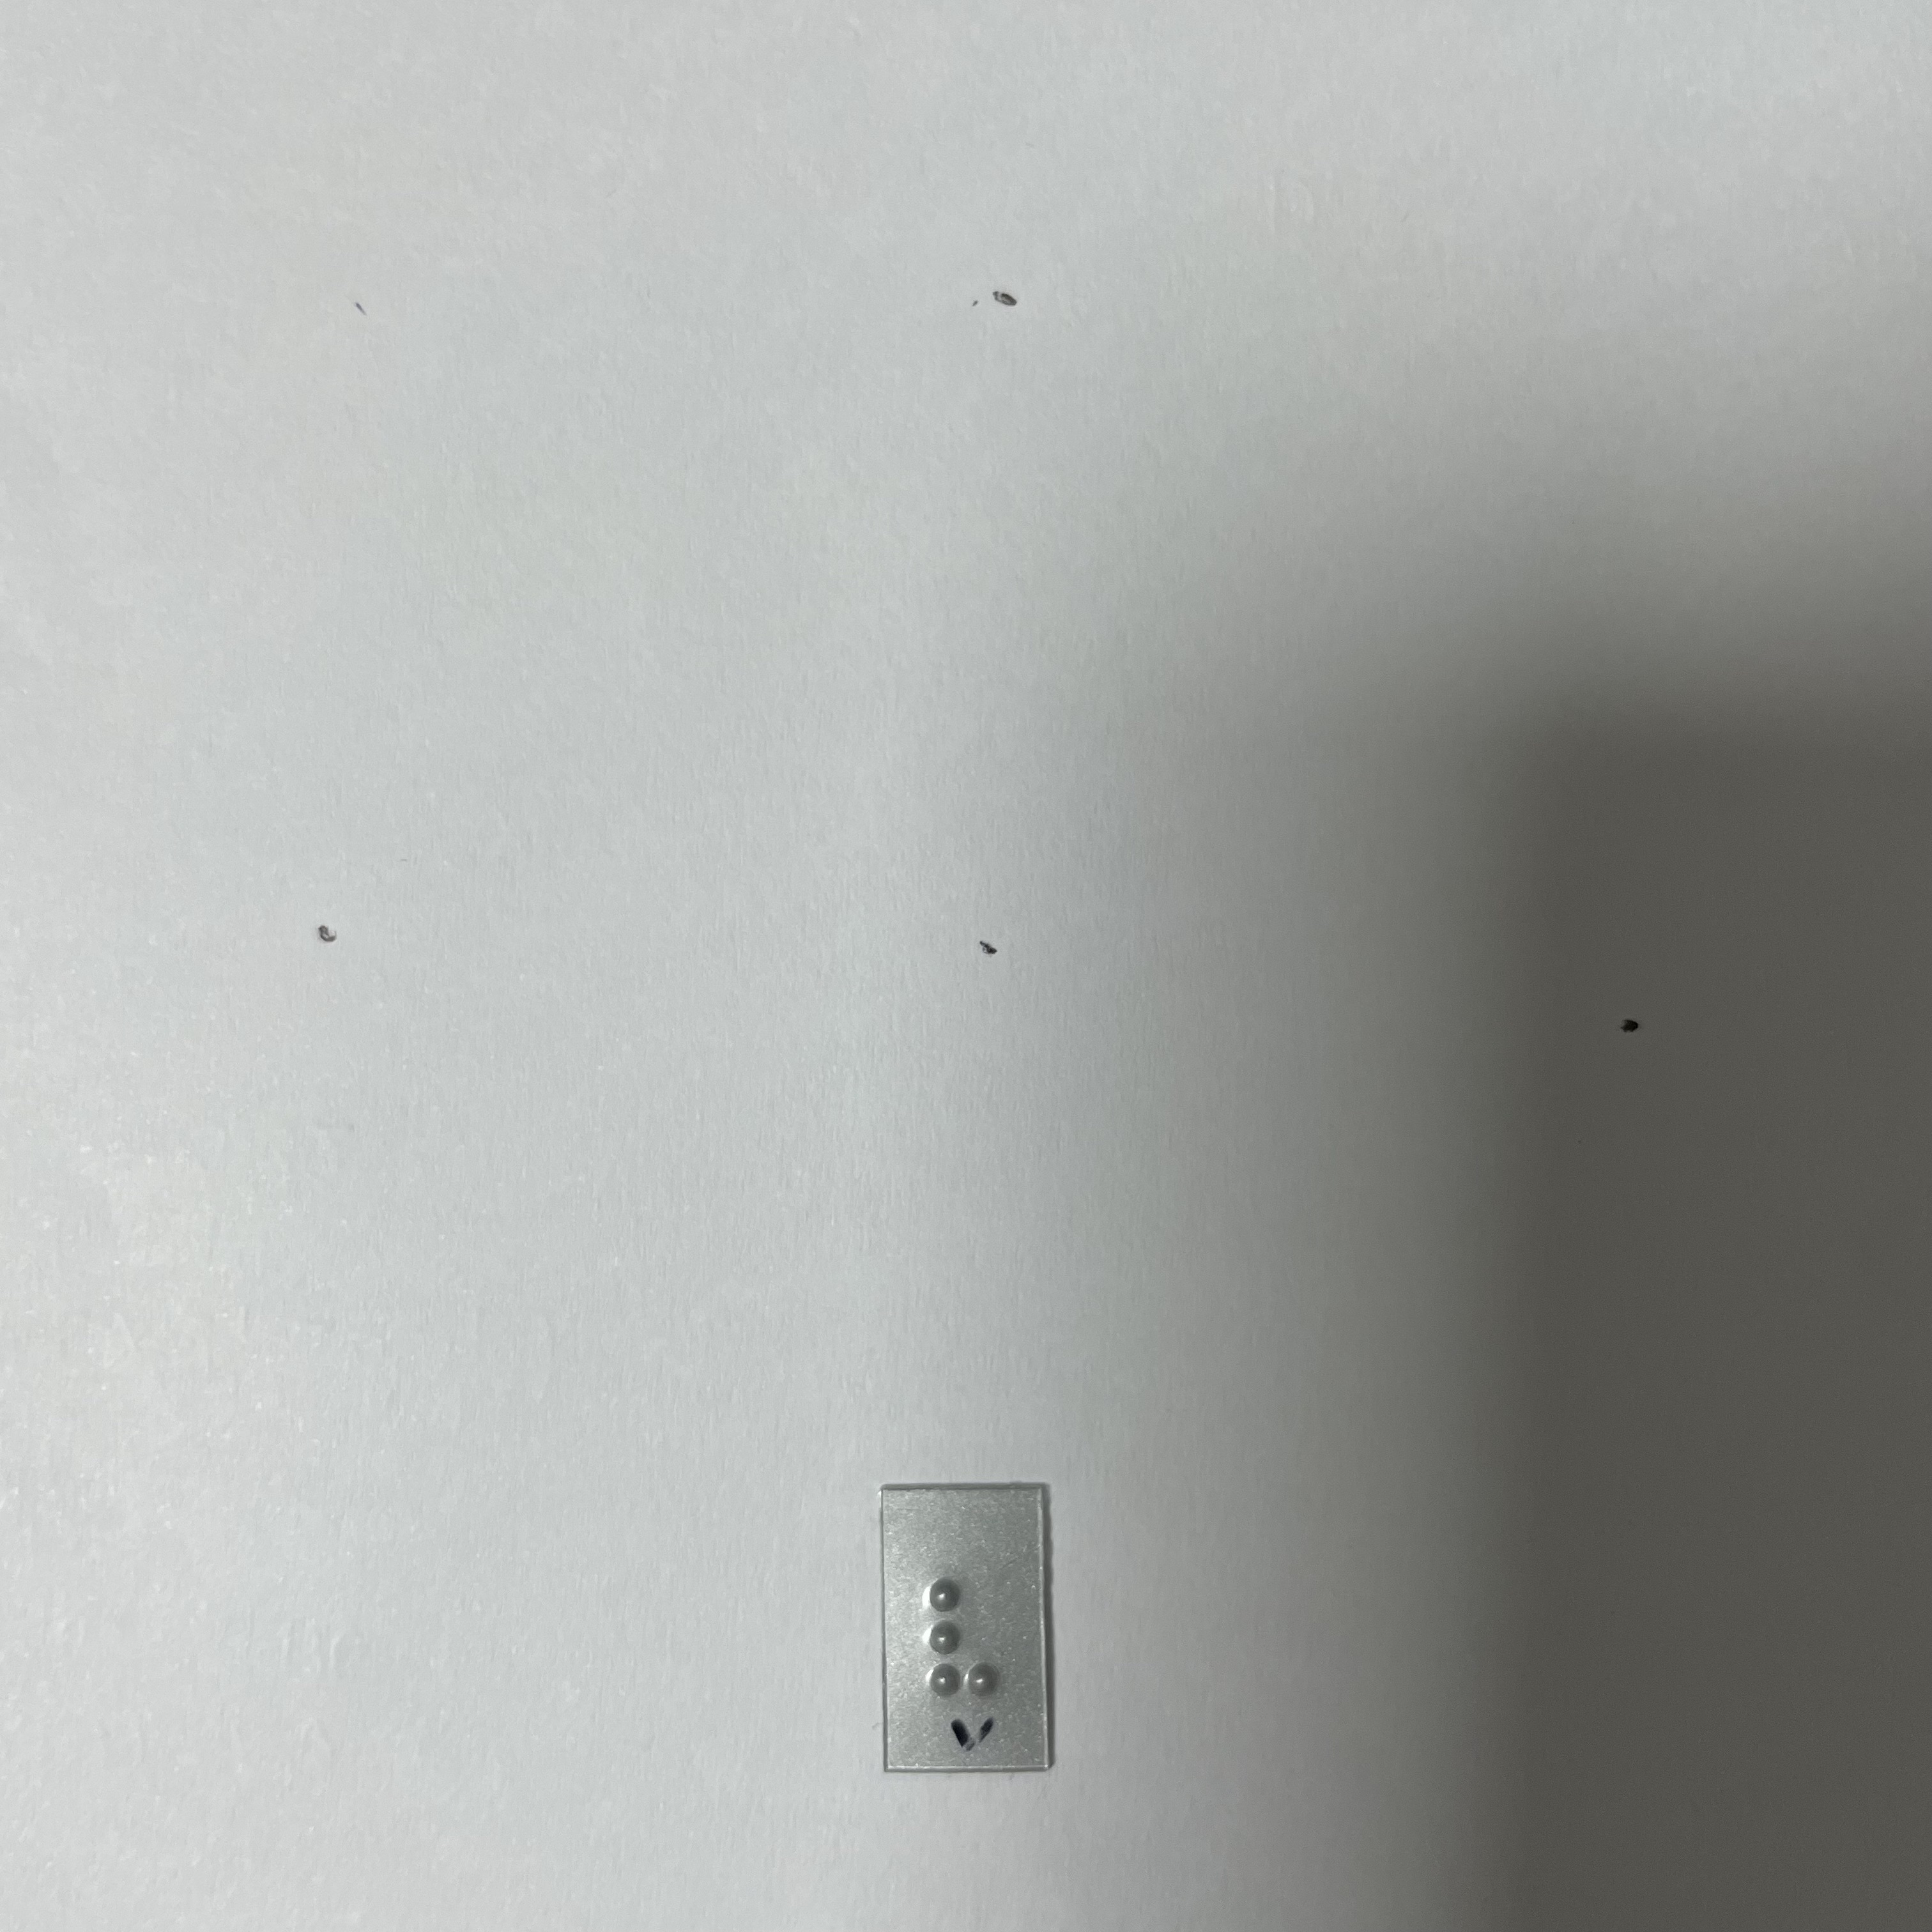v: (911, 1557, 1027, 1711)
